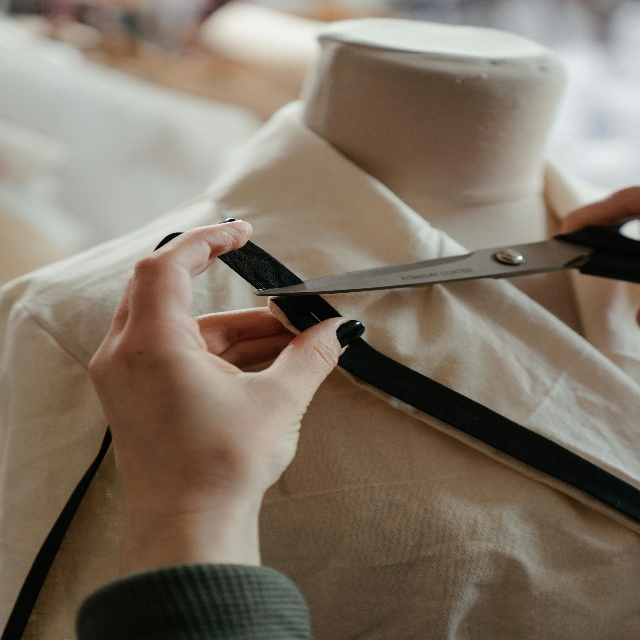Sin_guantes: (86, 216, 365, 498)
